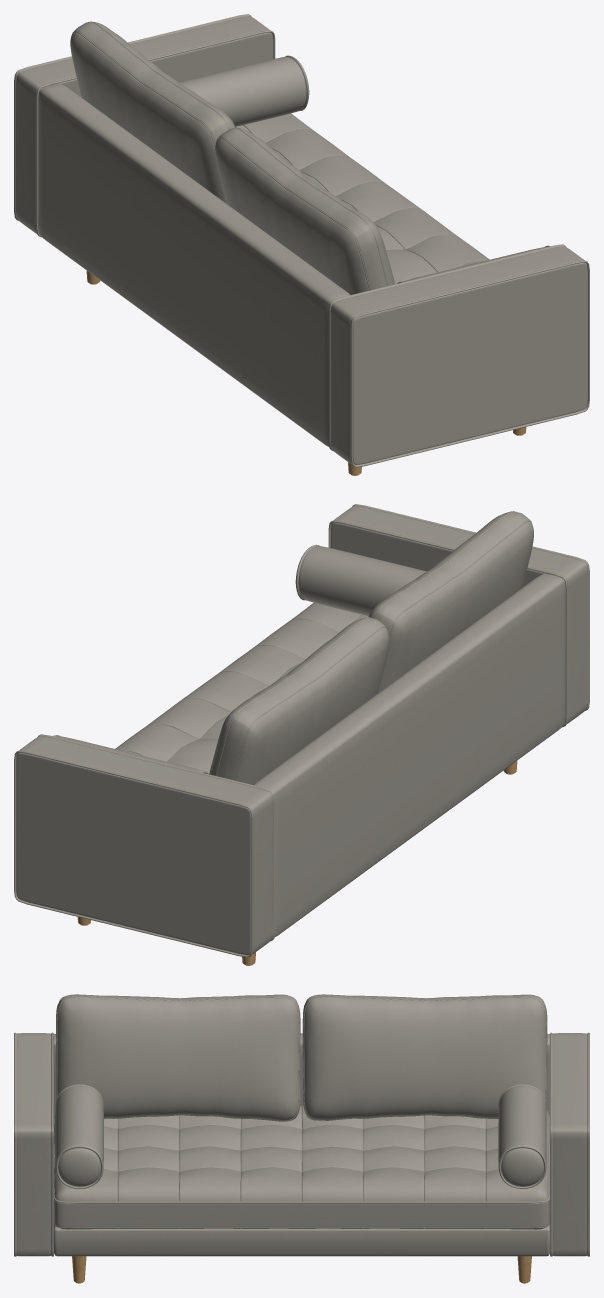
Rendered from scott.glb.
3 views of the same model, one above another, from view 1: azimuth 30°, elevation 25°; view 2: azimuth 150°, elevation 25°; view 3: azimuth 270°, elevation 25° (orthographic). The views are drawn at different scales.
Visible parts, largest first — view 1: MAIN; view 2: MAIN; view 3: MAIN, DOOR.
Part boxes in pixels (left/top/right/bottom): MAIN: left=14, top=14, right=589, bottom=467; MAIN: left=14, top=504, right=589, bottom=957; MAIN: left=14, top=994, right=589, bottom=1256; DOOR: left=72, top=1256, right=531, bottom=1283.
Bounding box in the file's own units: 0.8473 × 0.8373 × 2.
Materials: 2 (2 with a texture image).
